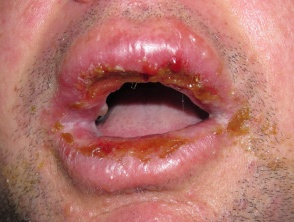SJS-TEN: (16, 0, 294, 222)
